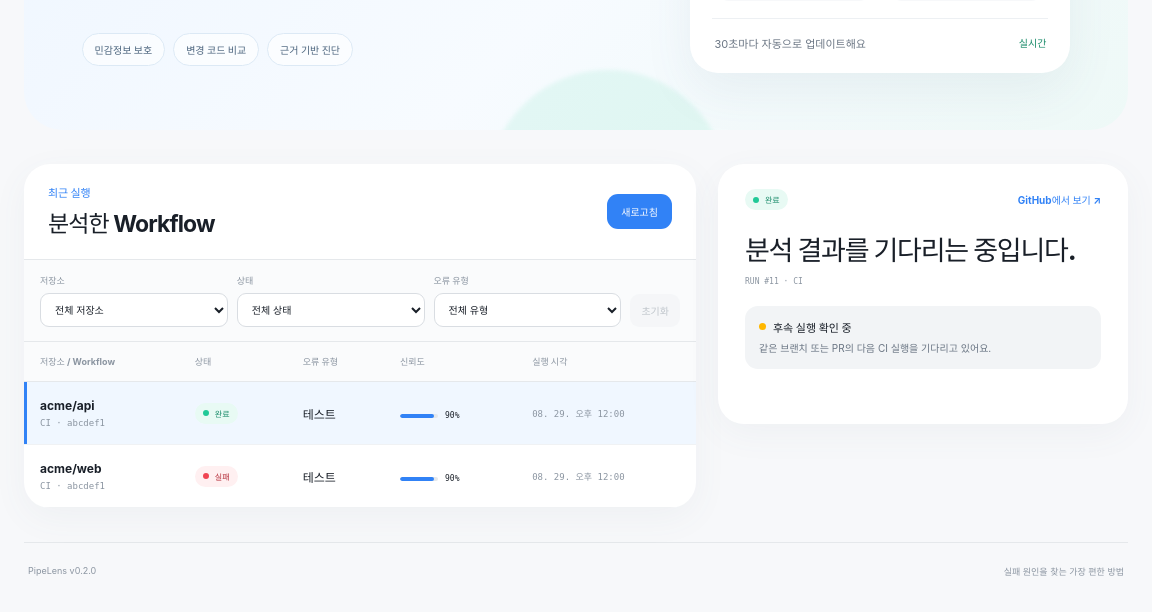
Test: PipeLens dashboard › requests and renders a server-side status filter
(page scrolled)
Check: the text "acme/web" is shown, box [40, 461, 102, 476]
Select "완료" in the dropdown labelled "상태" at (331, 310), box [237, 293, 425, 327]
(page scrolled)
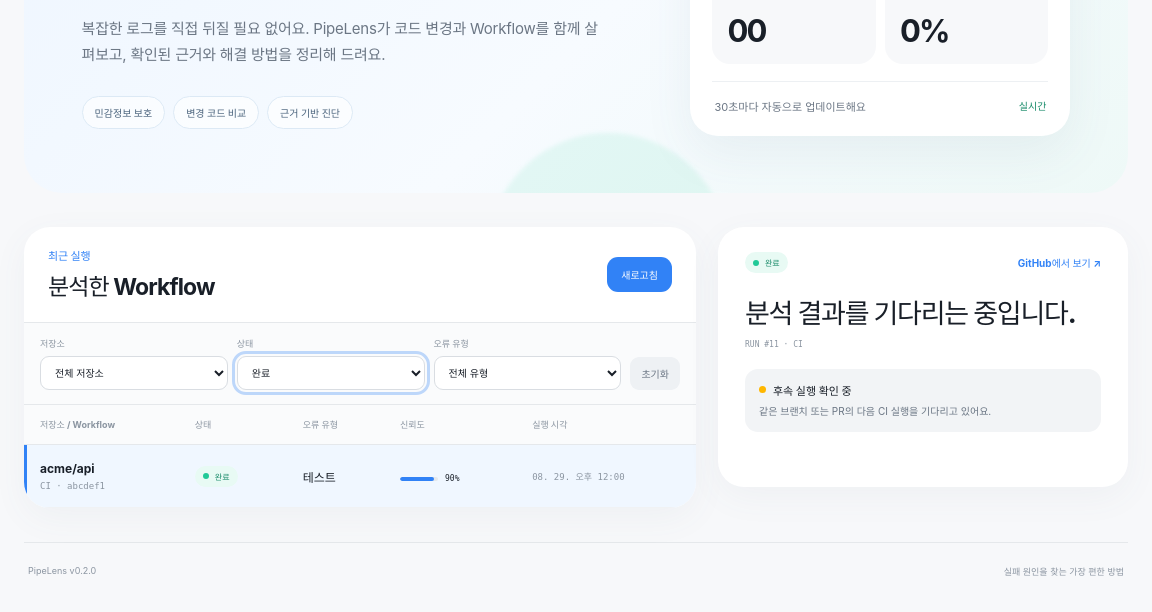
Check: the text "acme/api" is shown, box [40, 461, 95, 476]
Check: the button "acme/web" is gone
